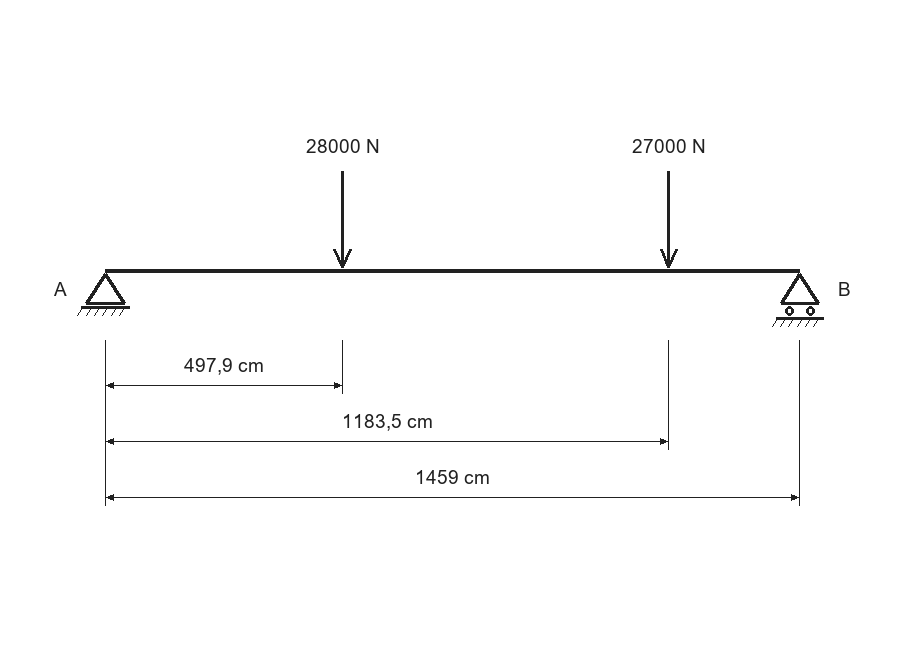pin_support: (77, 273, 130, 316)
point_load: (333, 171, 352, 268), (660, 171, 678, 268)
roller_support: (772, 273, 824, 327)
